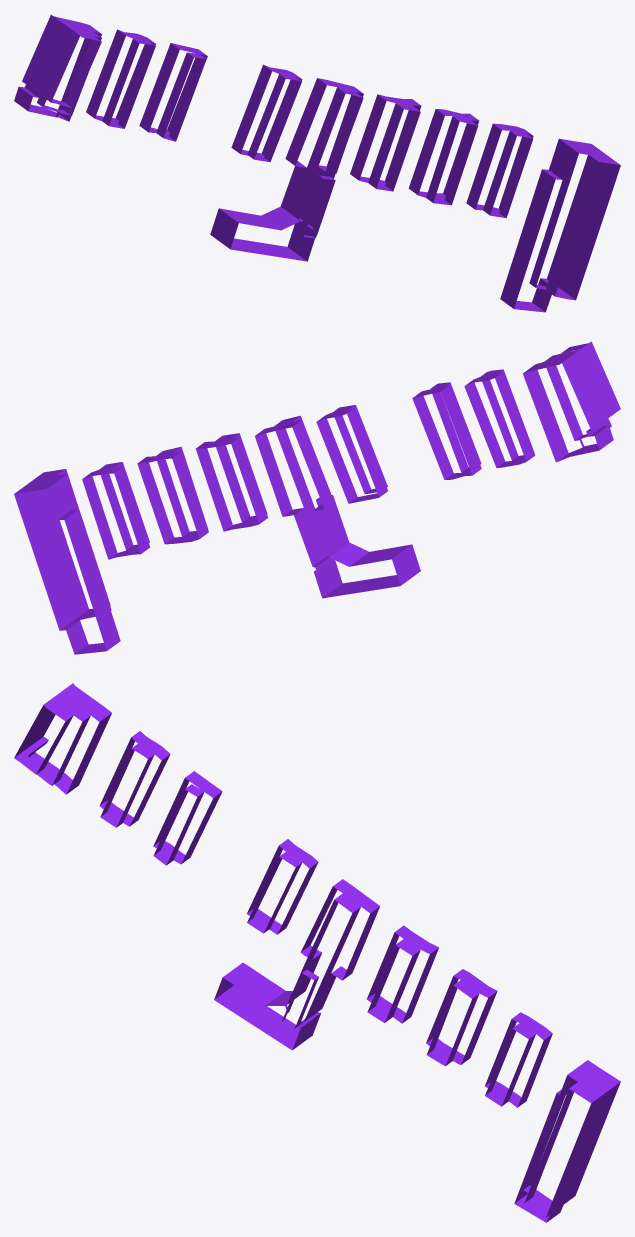
File: Wall_Hini_0.0_Slope_1.5.obj
The picture shows the model from 3 angles, top to bottom: view 1: azimuth 30°, elevation 25°; view 2: azimuth 150°, elevation 25°; view 3: azimuth 330°, elevation 25°; orthographic projection.
Visible parts, largest first — view 1: 1, 5, 9, 3, 4, 7, 8, 6, 2; view 2: 1, 5, 9, 3, 4, 7, 6, 2, 8; view 3: 5, 1, 9, 3, 4, 2, 8, 6, 7.
Boxes of the visible parts, left/top/right/bottom form: 1: left=500, top=138, right=620, bottom=312; 5: left=210, top=78, right=363, bottom=261; 9: left=14, top=14, right=101, bottom=121; 3: left=350, top=94, right=421, bottom=191; 4: left=408, top=109, right=479, bottom=205; 7: left=139, top=43, right=207, bottom=141; 8: left=86, top=29, right=155, bottom=128; 6: left=231, top=64, right=302, bottom=162; 2: left=466, top=123, right=533, bottom=218; 1: left=14, top=469, right=120, bottom=654; 5: left=254, top=415, right=420, bottom=598; 9: left=523, top=341, right=620, bottom=462; 3: left=196, top=433, right=268, bottom=531; 4: left=137, top=446, right=208, bottom=544; 7: left=412, top=382, right=481, bottom=479; 6: left=316, top=405, right=387, bottom=503; 2: left=82, top=462, right=150, bottom=559; 8: left=464, top=369, right=535, bottom=467; 5: left=214, top=879, right=379, bottom=1050; 1: left=514, top=1060, right=620, bottom=1222; 9: left=14, top=683, right=111, bottom=794; 3: left=366, top=925, right=438, bottom=1023; 4: left=426, top=969, right=497, bottom=1066; 2: left=485, top=1012, right=552, bottom=1107; 8: left=99, top=731, right=170, bottom=827; 6: left=247, top=839, right=318, bottom=934; 7: left=153, top=771, right=222, bottom=865.
Size of the model in its own units: 136 by 91.5 by 11.99.
